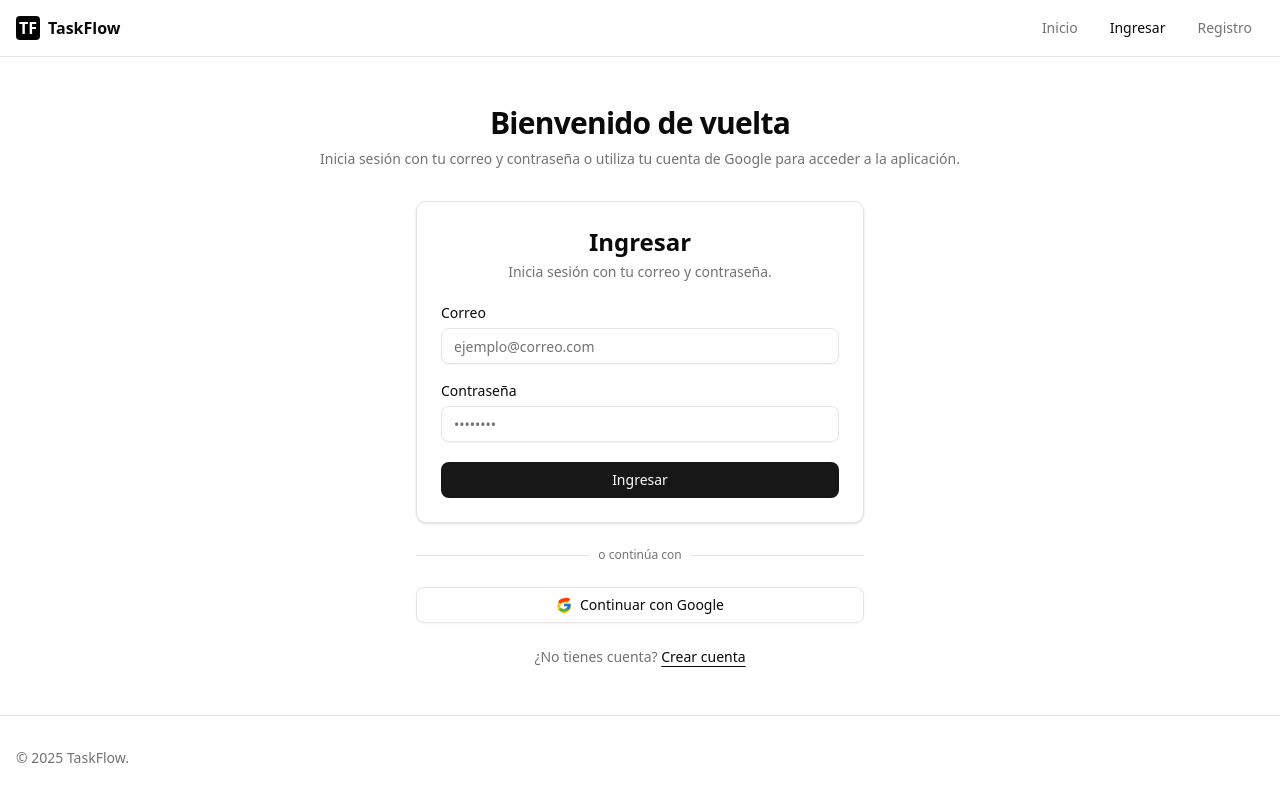
it: Autenticación - Inicio de sesión › flujo exitoso: credenciales correctas redirige a /dashboard y guarda token
Expected: the heading "Bienvenido de vuelta" is shown, [490,102,790,143]
Expected: the button "Ingresar" is shown, [441,462,839,498]
Type "alice@example.com" into the field labelled "Correo". click: (640, 346)
box: [441,328,839,364]
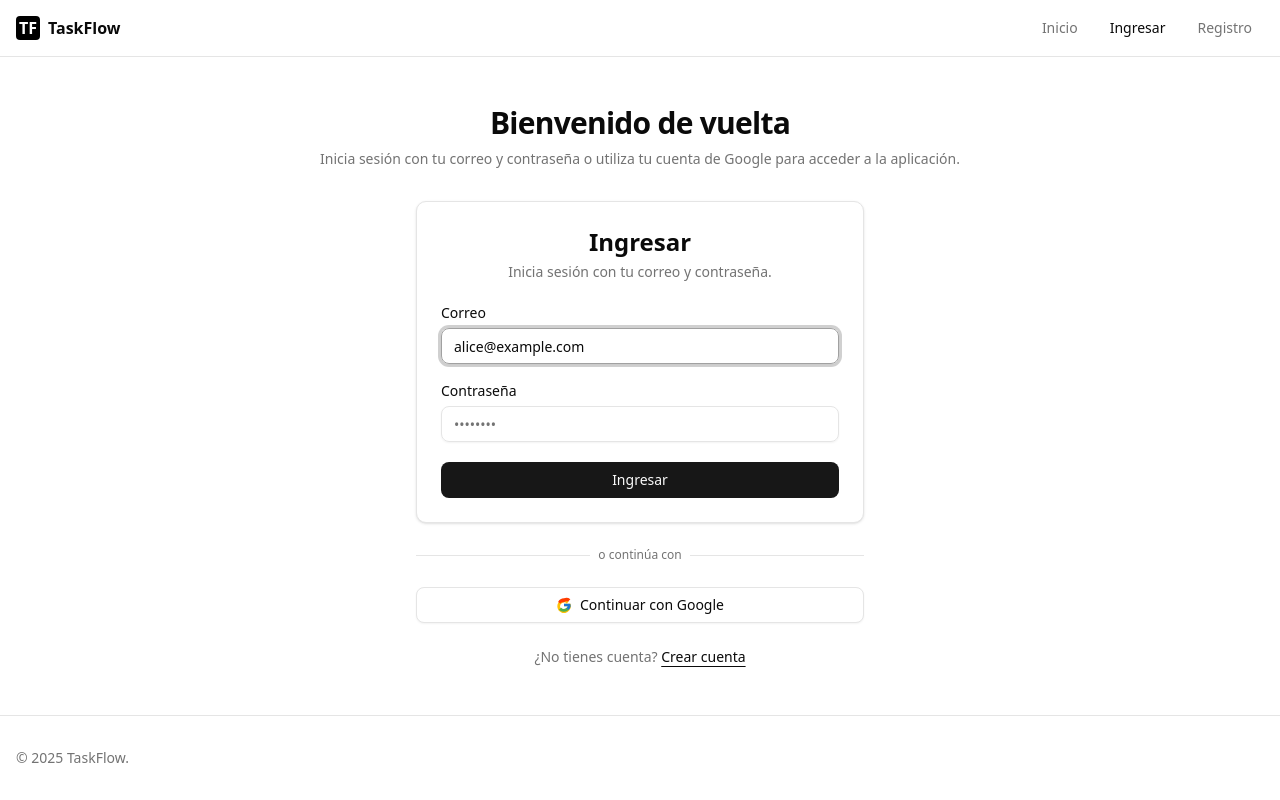
Type "secret123" into the password field labelled "Contraseña". click: (640, 424)
box: [441,406,839,442]
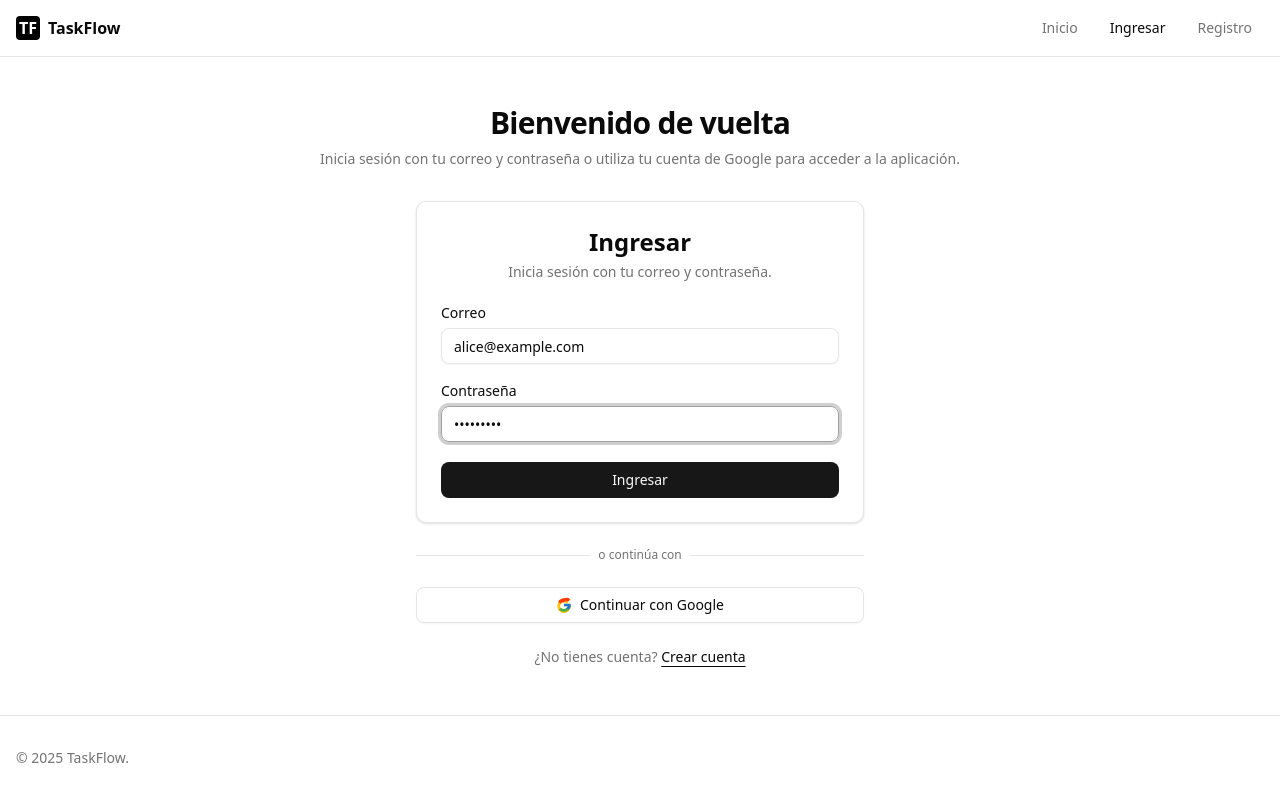
Click the button "Ingresar". click: (640, 480)
box: [441,462,839,498]
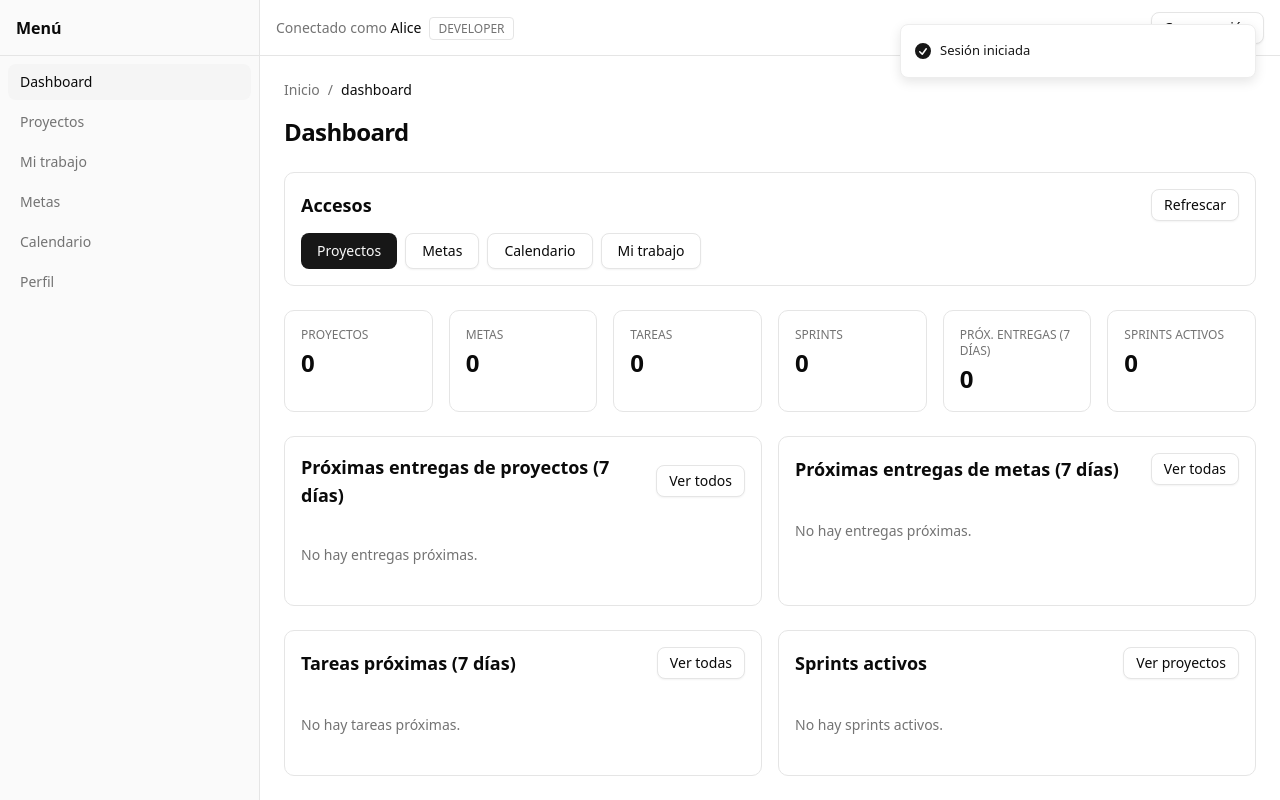
Expected: the text "Sesión iniciada" is shown, [940,41,1030,60]
